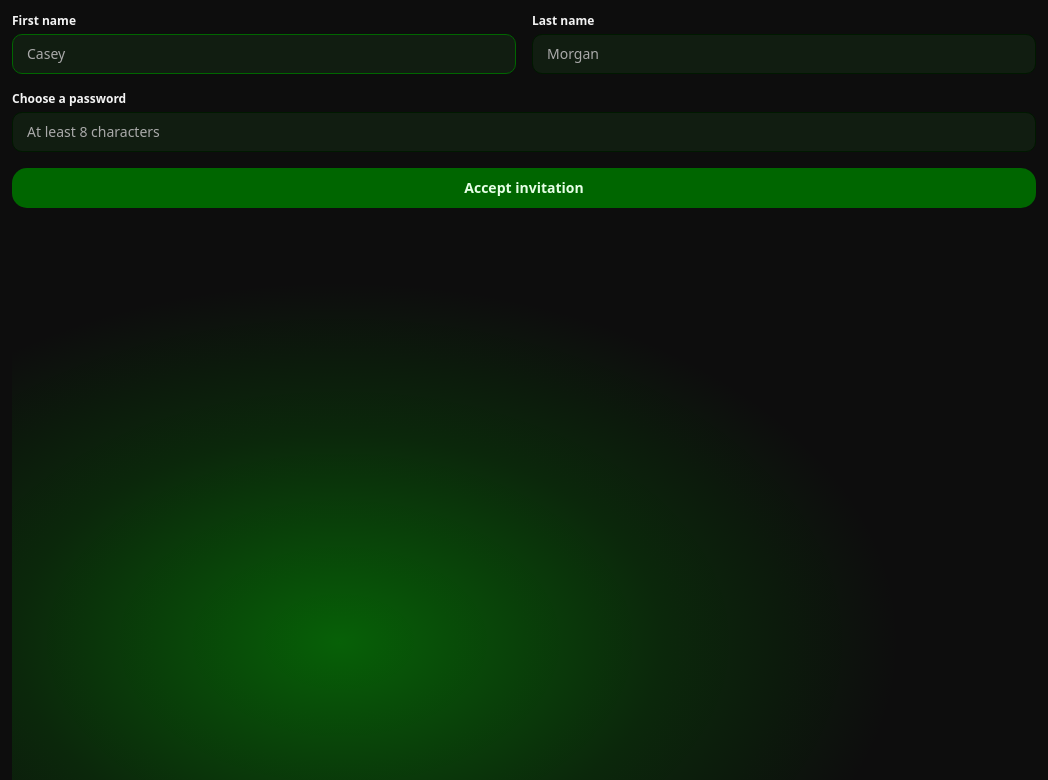
Scenario: AnonymousJoinForm › type: COACH_UNIQUE › does not submit without a first and last name
This screenshot has width=1048, height=780.
Type "Password1" into the password field labelled "Choose a password" at (524, 132), box [12,112,1036,152]
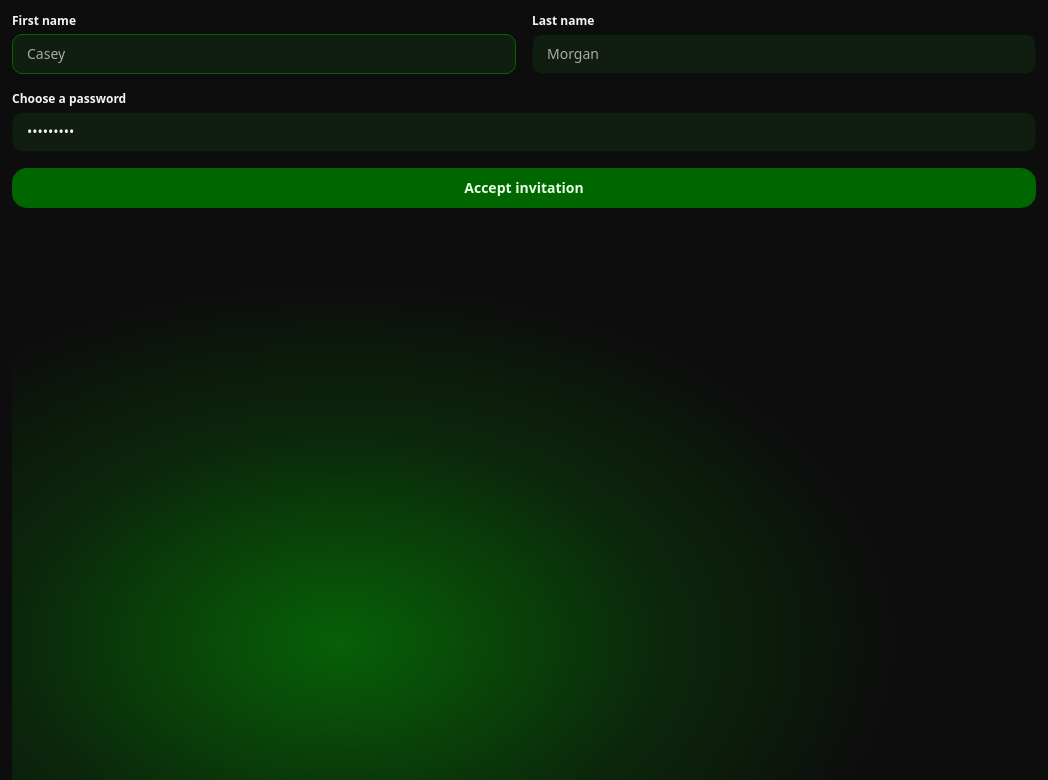
Click the button "Accept invitation" at (524, 188), box [12,168,1036,208]
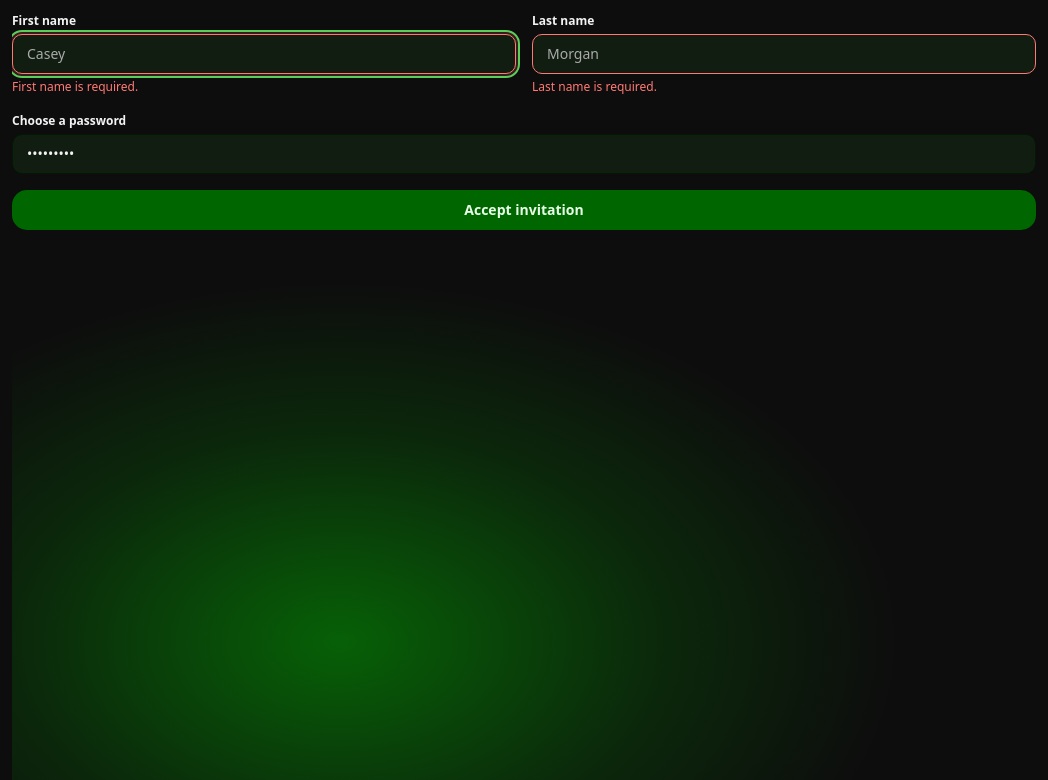
Expected: the text "First name is required." is shown, [12,78,138,95]
